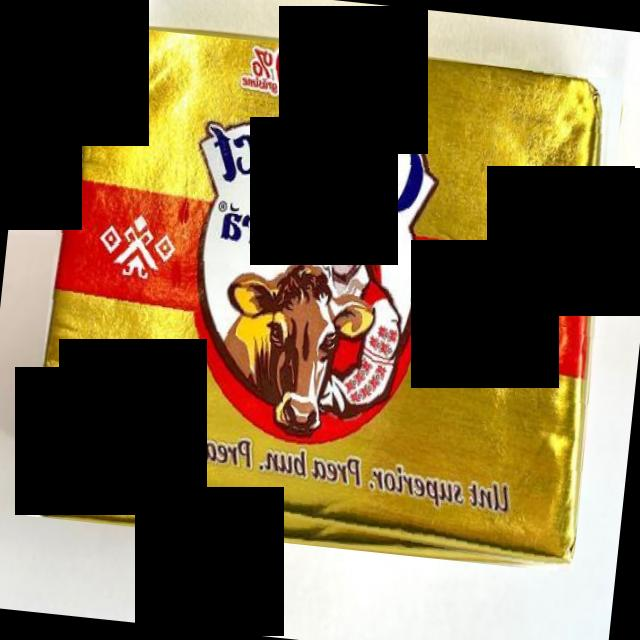butter: (26, 22, 624, 573)
